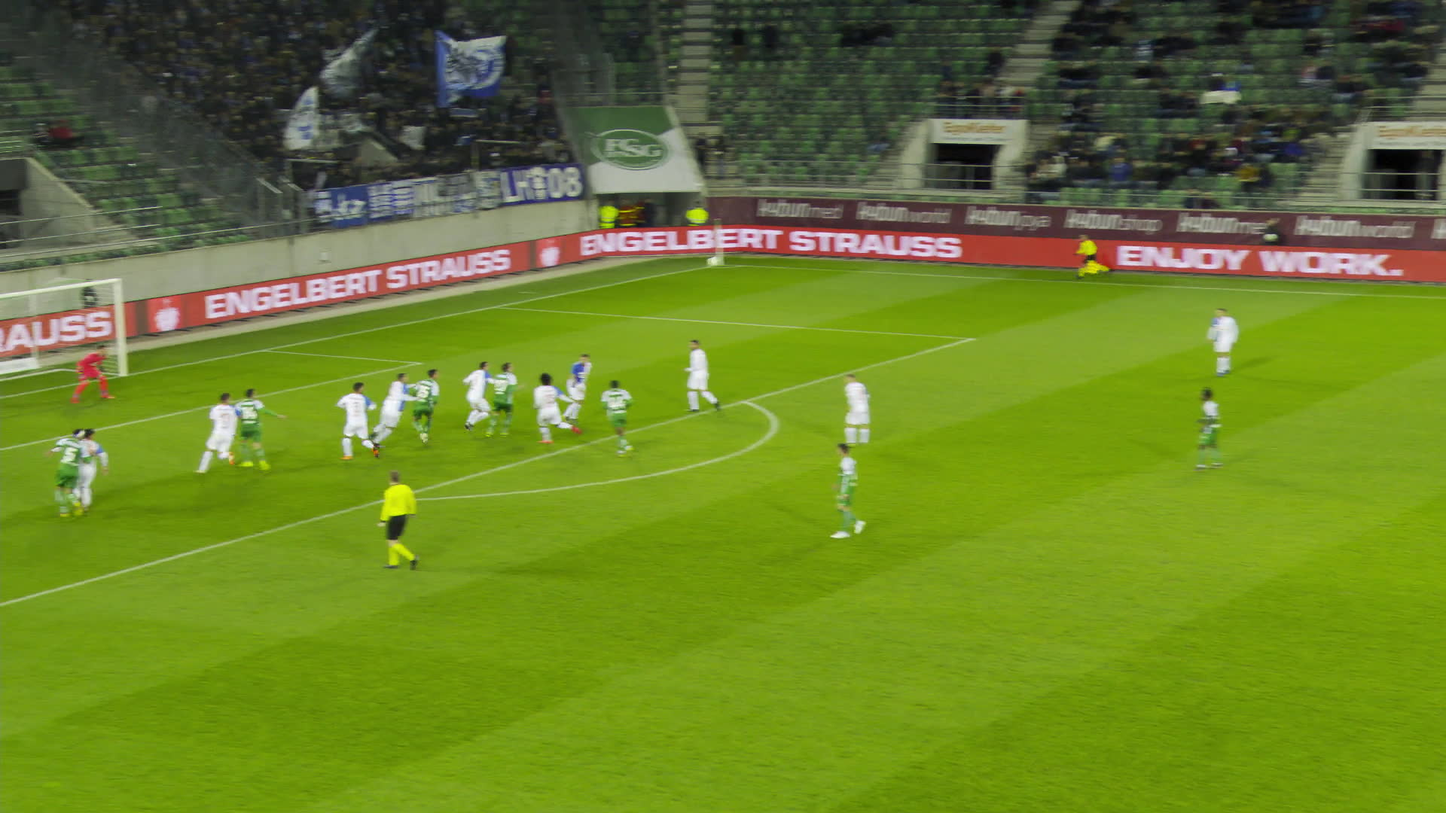ball: (709, 257, 716, 263)
player: (44, 428, 108, 513), (233, 388, 288, 473), (368, 371, 422, 448), (45, 429, 89, 521), (196, 393, 239, 473), (532, 373, 581, 443), (830, 442, 866, 537), (337, 382, 379, 459), (483, 361, 525, 438), (600, 379, 636, 458), (69, 344, 117, 402), (683, 339, 719, 412), (1193, 385, 1222, 470), (407, 369, 439, 442), (461, 361, 494, 431), (1207, 307, 1239, 377), (842, 372, 871, 449), (561, 353, 592, 425)
referee: (376, 470, 419, 570), (1073, 233, 1110, 279)
